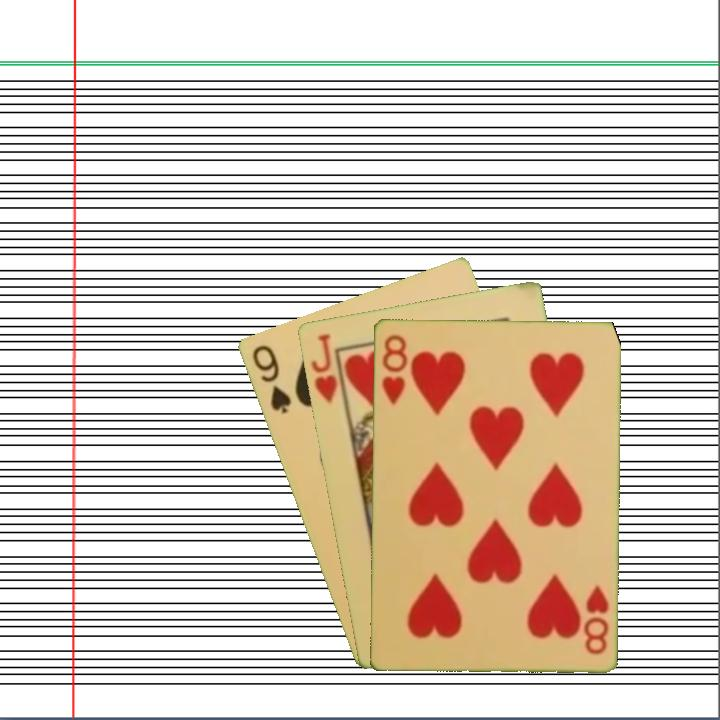8h: (378, 331, 410, 408), (580, 581, 611, 657)
9s: (248, 341, 294, 416)
Jh: (307, 329, 340, 406)
